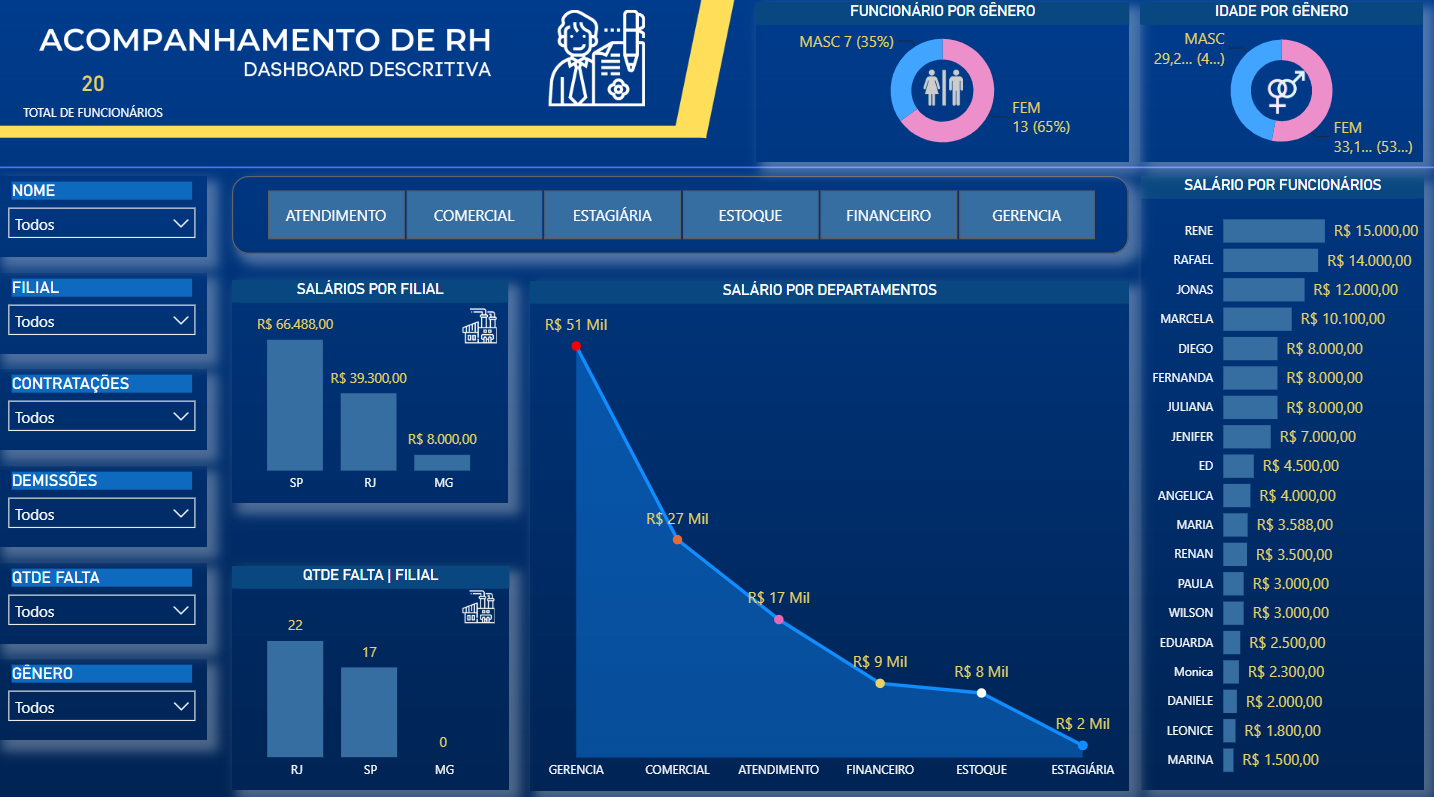

The dashboard page shown, as its layout file describes it:
{"tool":"powerbi","page":{"name":"CONTROLE DE RH","canvas":[1280,720],"ordinal":0},"visuals":[{"type":"barChart","title":"SALÁRIO POR FUNCIONÁRIOS","fields":{"Category":["tb_rh.NOME"],"Y":["tb_rh.TOTAL DE SALARIOS"]},"box":[1014.3,163,251,543.9],"z":0},{"type":"columnChart","title":"QTDE FALTA | FILIAL","fields":{"Category":["tb_rh.FILIAL"],"Y":["tb_rh.TOTAL_FALTAS"]},"box":[208.6,509,245.9,198.6],"z":1000},{"type":"columnChart","title":"SALÁRIOS POR FILIAL","fields":{"Y":["Sum(tb_rh.SALARIO)"],"Category":["tb_rh.FILIAL"]},"box":[208.7,255.8,245,198],"z":2000},{"type":"image","box":[382,525.1,89.7,40.3],"z":3000},{"type":"image","box":[382.4,275.1,90.5,42.2],"z":4000},{"type":"slicer","title":"NOME","fields":{"Values":["tb_rh.NOME"]},"box":[0,162.9,185.8,72.4],"z":5000},{"type":"slicer","title":"NOME","fields":{"Values":["tb_rh.FILIAL"]},"box":[0,248.9,185.8,72],"z":6000},{"type":"slicer","title":"NOME","fields":{"Values":["tb_rh.CONTRATACÕES FEITAS"]},"box":[0,334.6,185.8,72],"z":7000},{"type":"slicer","title":"NOME","fields":{"Values":["tb_rh.DEMISSOES"]},"box":[0,420.2,185.8,72],"z":8000},{"type":"slicer","title":"NOME","fields":{"Values":["tb_rh.QTDE FALTA"]},"box":[0,505.9,185.8,72],"z":9000},{"type":"slicer","title":"NOME","fields":{"Values":["tb_rh.SEXO"]},"box":[0,591.5,186.1,72.1],"z":10000},{"type":"areaChart","title":"SALÁRIO POR DEPARTAMENTOS","fields":{"Category":["tb_rh.DEPARTAMENTO"],"Y":["tb_rh.TOTAL DE SALARIOS"]},"box":[472.7,256,531.1,451.5],"z":11000},{"type":"slicer","fields":{"Values":["tb_rh.DEPARTAMENTO"]},"box":[208.7,162.9,795,68.8],"z":12000},{"type":"donutChart","title":"FUNCIONÁRIO POR GÊNERO","fields":{"Category":["tb_rh.SEXO"],"Y":["tb_rh.GENERO"]},"box":[673.3,9.1,330.6,142.1],"z":13000},{"type":"donutChart","title":"IDADE POR GÊNERO","fields":{"Category":["tb_rh.SEXO"],"Y":["tb_rh.IDADE_GENERO"]},"box":[1013.9,9.1,251,142.1],"z":14000},{"type":"image","box":[809.3,63.5,58.5,42.3],"z":15000},{"type":"image","box":[1111.7,63.5,62.5,50.4],"z":16000},{"type":"card","title":"TOTAL FUNCIONARIOS","fields":{"Values":["Count(tb_rh.ID)"]},"box":[0,57.4,170.3,61.5],"z":17000}]}

Visuals, with their boxes in screenshot pixels (x1, y1, x2, y2), scaled from the page's 1280x720 canvas onto the 1434x797 screenshot:
"SALÁRIO POR FUNCIONÁRIOS" barChart: x1=1136 y1=180 x2=1418 y2=782
"QTDE FALTA | FILIAL" columnChart: x1=234 y1=563 x2=509 y2=783
"SALÁRIOS POR FILIAL" columnChart: x1=234 y1=283 x2=508 y2=502
image: x1=428 y1=581 x2=528 y2=626
image: x1=428 y1=305 x2=530 y2=351
"NOME" slicer: x1=0 y1=180 x2=208 y2=260
"NOME" slicer: x1=0 y1=276 x2=208 y2=355
"NOME" slicer: x1=0 y1=370 x2=208 y2=450
"NOME" slicer: x1=0 y1=465 x2=208 y2=545
"NOME" slicer: x1=0 y1=560 x2=208 y2=640
"NOME" slicer: x1=0 y1=655 x2=208 y2=735
"SALÁRIO POR DEPARTAMENTOS" areaChart: x1=530 y1=283 x2=1125 y2=783
slicer - tb_rh.DEPARTAMENTO: x1=234 y1=180 x2=1124 y2=256
"FUNCIONÁRIO POR GÊNERO" donutChart: x1=754 y1=10 x2=1125 y2=167
"IDADE POR GÊNERO" donutChart: x1=1136 y1=10 x2=1417 y2=167
image: x1=907 y1=70 x2=972 y2=117
image: x1=1245 y1=70 x2=1315 y2=126
"TOTAL FUNCIONARIOS" card: x1=0 y1=64 x2=191 y2=132
